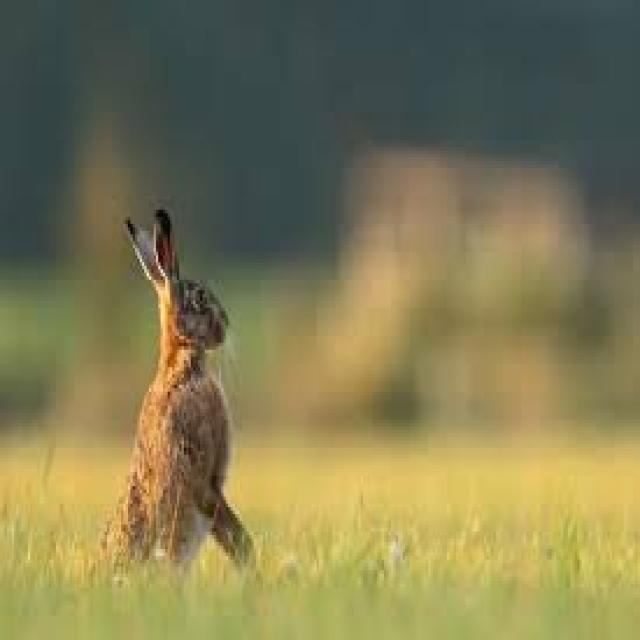Hare: (110, 201, 264, 580)
